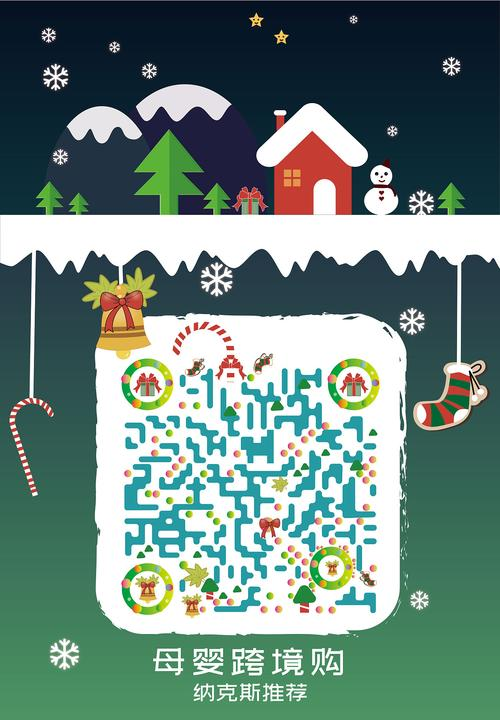QRCode: (119, 355, 380, 622)
